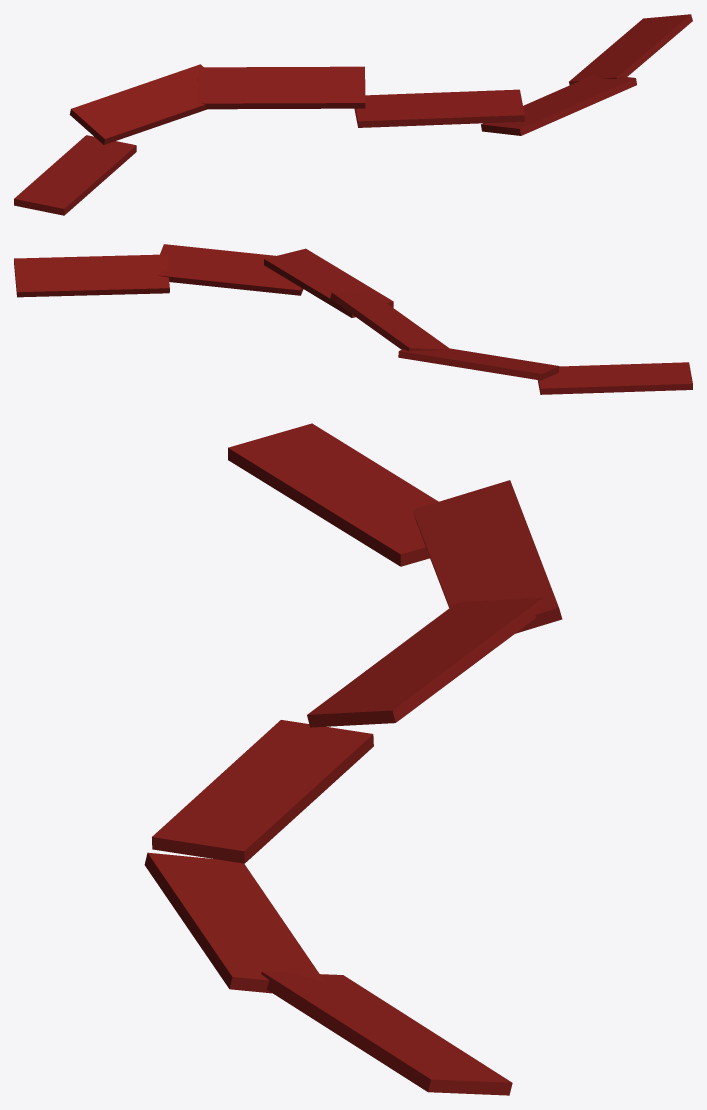
The model's file is village_ribbon.glb.
3 views of the same model, one above another, from view 1: azimuth 30°, elevation 25°; view 2: azimuth 150°, elevation 25°; view 3: azimuth 270°, elevation 25° (orthographic). The views are drawn at different scales.
Visible parts, largest first — view 1: village_ribbon; view 2: village_ribbon; view 3: village_ribbon.
Boxes of the visible parts, left/top/right/bottom form: village_ribbon: left=14, top=14, right=692, bottom=215; village_ribbon: left=14, top=244, right=692, bottom=394; village_ribbon: left=144, top=423, right=562, bottom=1095.
Bounding box in the file's own units: 0.4414 × 0.0346 × 0.1229.
